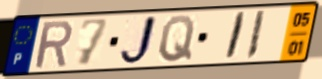7: (78, 16, 109, 69)
I: (222, 11, 249, 62), (243, 9, 268, 62)
J: (117, 14, 160, 68)
Q: (157, 13, 197, 64)
R: (33, 19, 74, 72)
